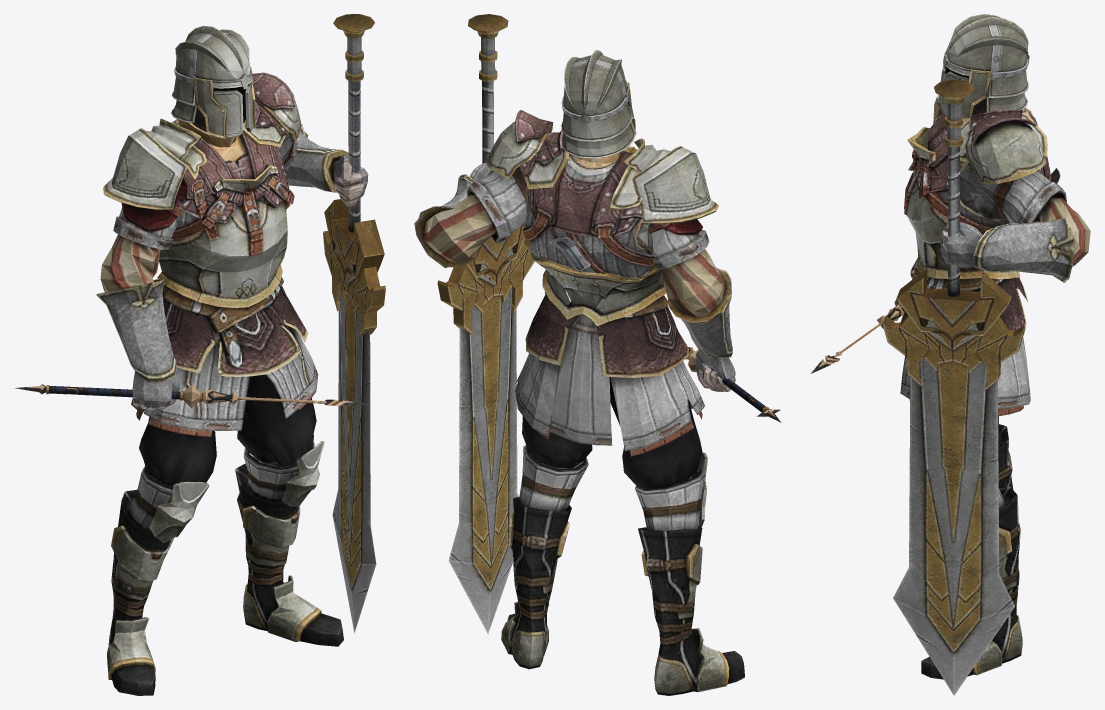
The model's file is knight_idle_animation.glb.
3 renders of one model, left to right at view 1: azimuth 30°, elevation 25°; view 2: azimuth 150°, elevation 25°; view 3: azimuth 270°, elevation 25°, orthographic.
Parts seen in each view (by area): view 1: Armor, Sword, Pants, Helmet, Cloth, Pillum, R.hand, L.hand; view 2: Armor, Sword, Cloth, Helmet, Pants, R.hand, Pillum; view 3: Sword, Armor, Helmet, Cloth, L.hand, Pillum.
Boxes of the visible parts, bbox=[...] form: Armor: bbox=[96, 72, 348, 695]; Sword: bbox=[323, 14, 385, 632]; Pants: bbox=[139, 374, 316, 487]; Helmet: bbox=[171, 25, 255, 144]; Cloth: bbox=[131, 324, 318, 436]; Pillum: bbox=[15, 384, 369, 408]; R.hand: bbox=[132, 372, 179, 409]; L.hand: bbox=[333, 155, 368, 206]; Armor: bbox=[414, 110, 744, 695]; Sword: bbox=[437, 14, 534, 633]; Cloth: bbox=[515, 315, 704, 456]; Helmet: bbox=[561, 50, 636, 158]; Pants: bbox=[522, 377, 702, 489]; R.hand: bbox=[696, 349, 735, 392]; Pillum: bbox=[685, 344, 781, 422]; Sword: bbox=[882, 79, 1025, 695]; Armor: bbox=[900, 94, 1090, 679]; Helmet: bbox=[938, 14, 1029, 120]; Cloth: bbox=[900, 278, 1030, 416]; L.hand: bbox=[940, 222, 982, 267]; Pillum: bbox=[811, 299, 905, 373].
Size of the model in its own units: 110 by 195 by 79.95.
Materials: 6 (6 with a texture image).
